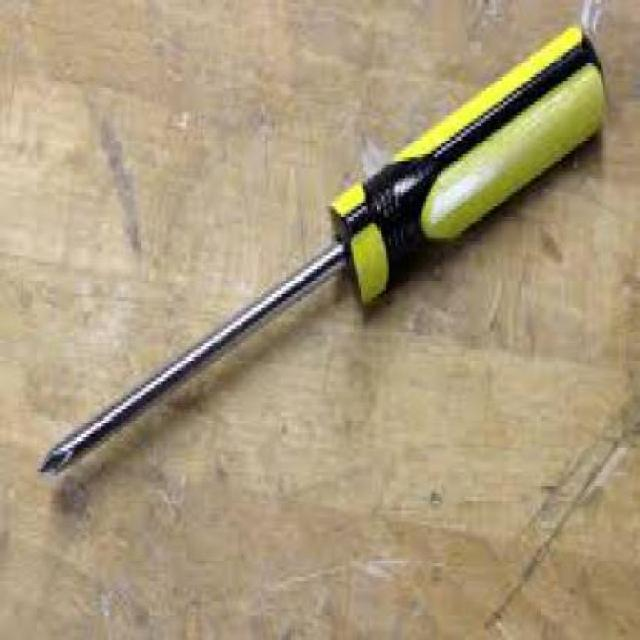screwdriver: (40, 32, 612, 480)
